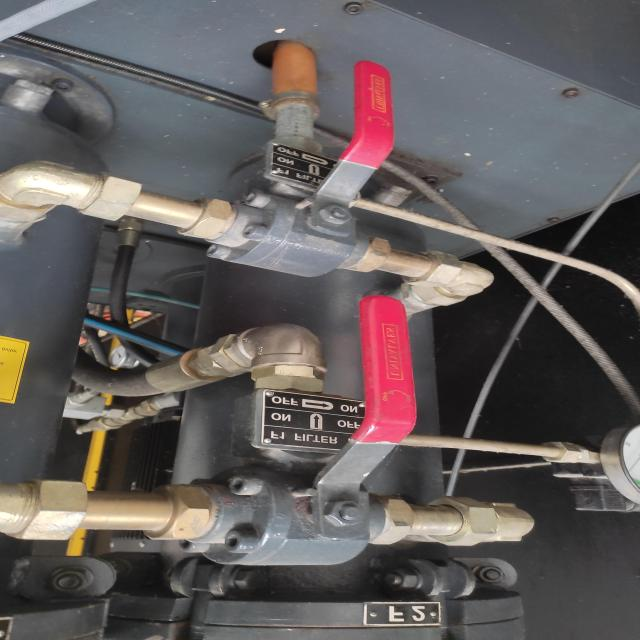closed_valve: (196, 292, 425, 578), (201, 60, 399, 281)
